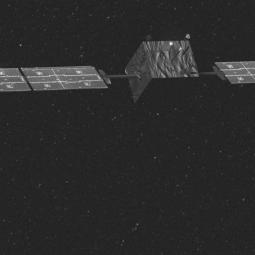smart_1: (38, 35, 255, 106)
